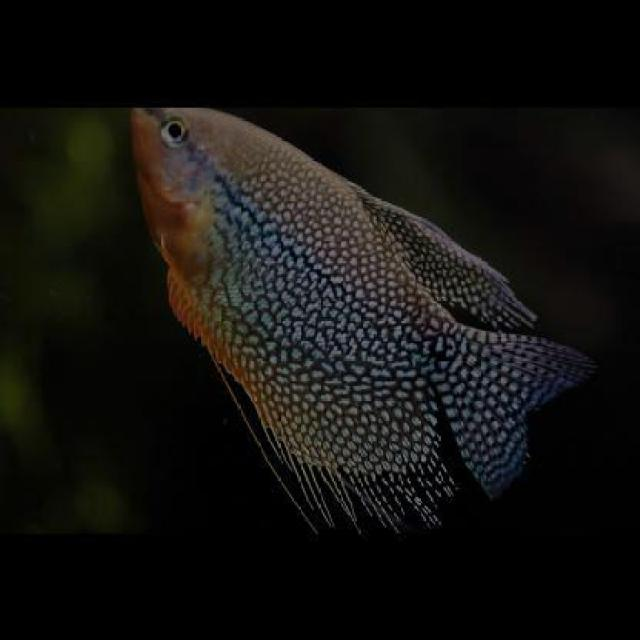Gourami: (128, 106, 598, 532)
